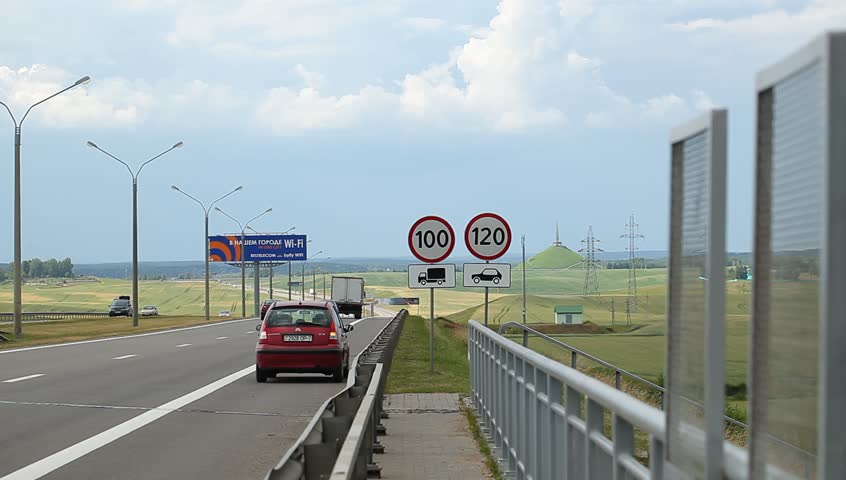Speed_limit_100km: (407, 217, 455, 262)
Speed_limit_120km: (464, 213, 511, 260)
car: (247, 298, 354, 384)
